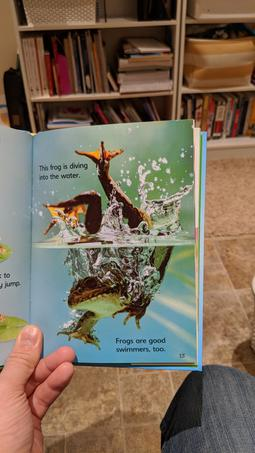text block: (106, 328, 178, 353), (33, 161, 95, 183), (1, 271, 24, 295)
